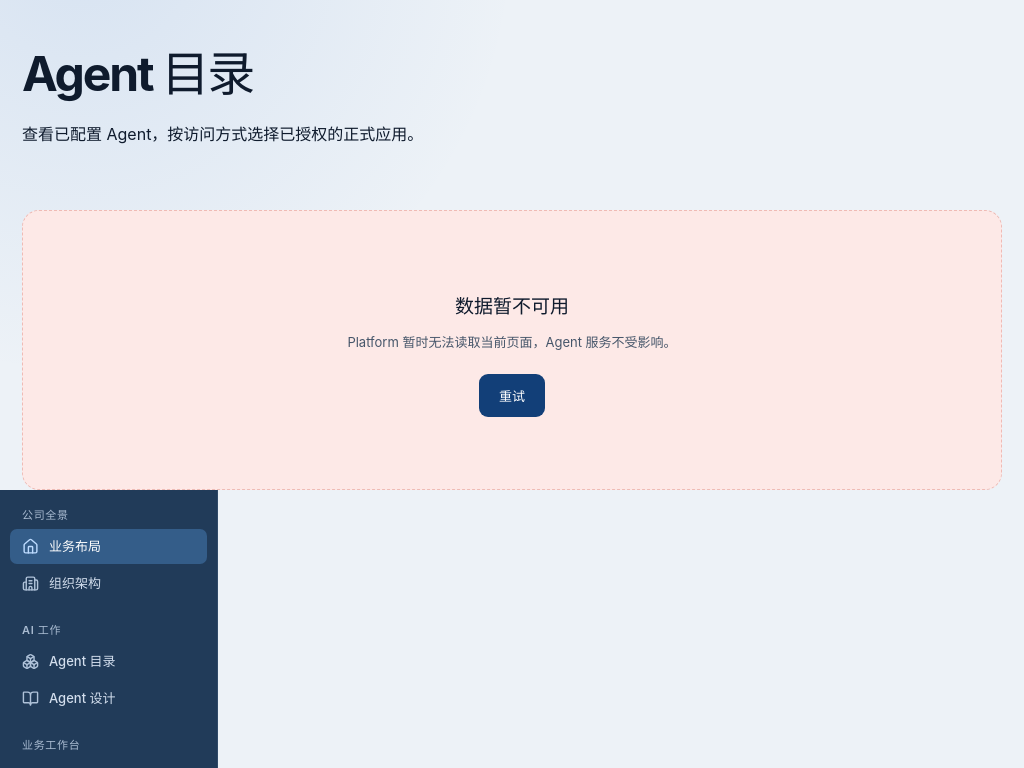
Test: distinguishes fetch failure, retry and empty authorization without restoring hardcoded launches
The image size is (1024, 768).
Expected: the text "暂时没有可用的专业 Agent" is not shown
Click the button "重试": click(512, 396) [479,374,545,417]
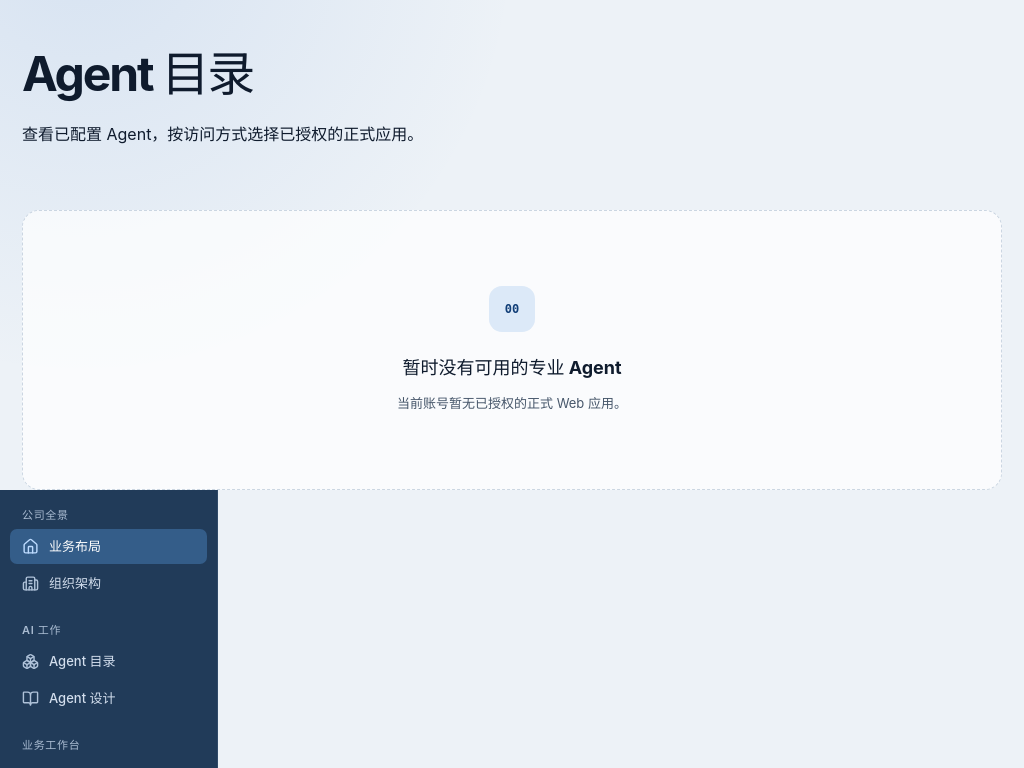
Result: the text "暂时没有可用的专业 Agent" is shown at [402,353,622,379]
